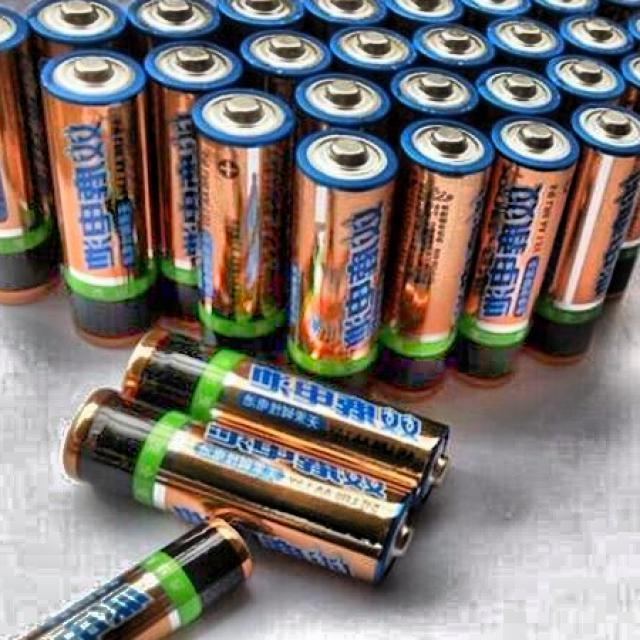battery: (63, 390, 412, 582), (123, 330, 449, 502), (41, 50, 155, 345), (455, 116, 579, 380), (379, 119, 494, 391), (527, 104, 640, 361), (20, 519, 252, 640), (288, 129, 398, 375), (144, 40, 242, 316), (192, 89, 294, 338), (0, 8, 58, 303), (240, 29, 330, 105), (27, 0, 127, 67), (295, 73, 391, 138), (545, 57, 626, 124), (329, 27, 416, 86), (412, 23, 495, 80), (391, 66, 479, 117), (216, 0, 305, 50), (487, 16, 565, 72), (476, 66, 561, 114), (559, 15, 636, 66), (127, 0, 220, 39), (304, 0, 387, 41), (386, 0, 463, 36), (461, 0, 530, 31), (530, 0, 598, 27)
